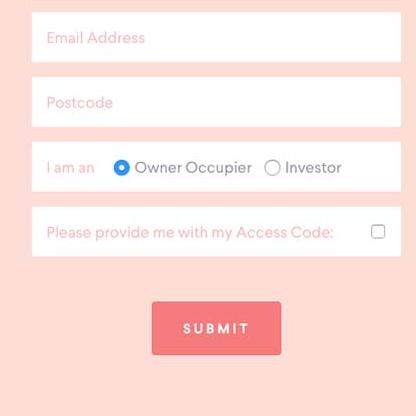button: (150, 299, 283, 356)
checkbox: (369, 221, 386, 240)
checkbox_with_label: (47, 219, 389, 244)
field: (32, 8, 403, 61), (31, 75, 402, 128)
radio: (110, 157, 131, 179), (265, 158, 280, 177)
radio_with_label: (108, 153, 251, 183), (263, 155, 345, 179)
